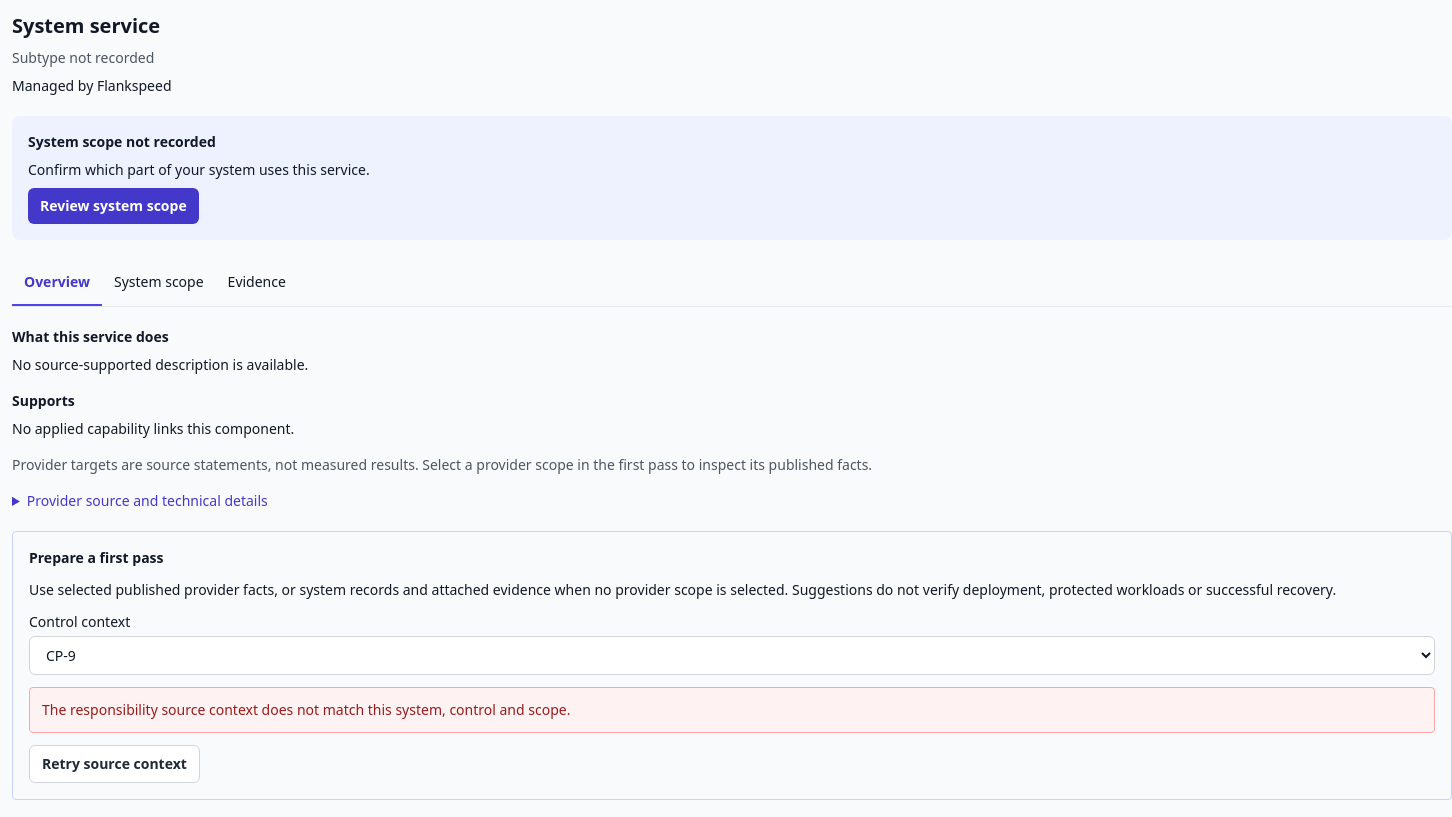
Test: task-oriented component review › handles empty, demo-only and long source descriptions without inventing facts
Check: the heading "System scope not recorded" is shown, box [28,132,216,151]
Click the heading "Provider source and technical details" at [147, 500], box [27,491,268,510]
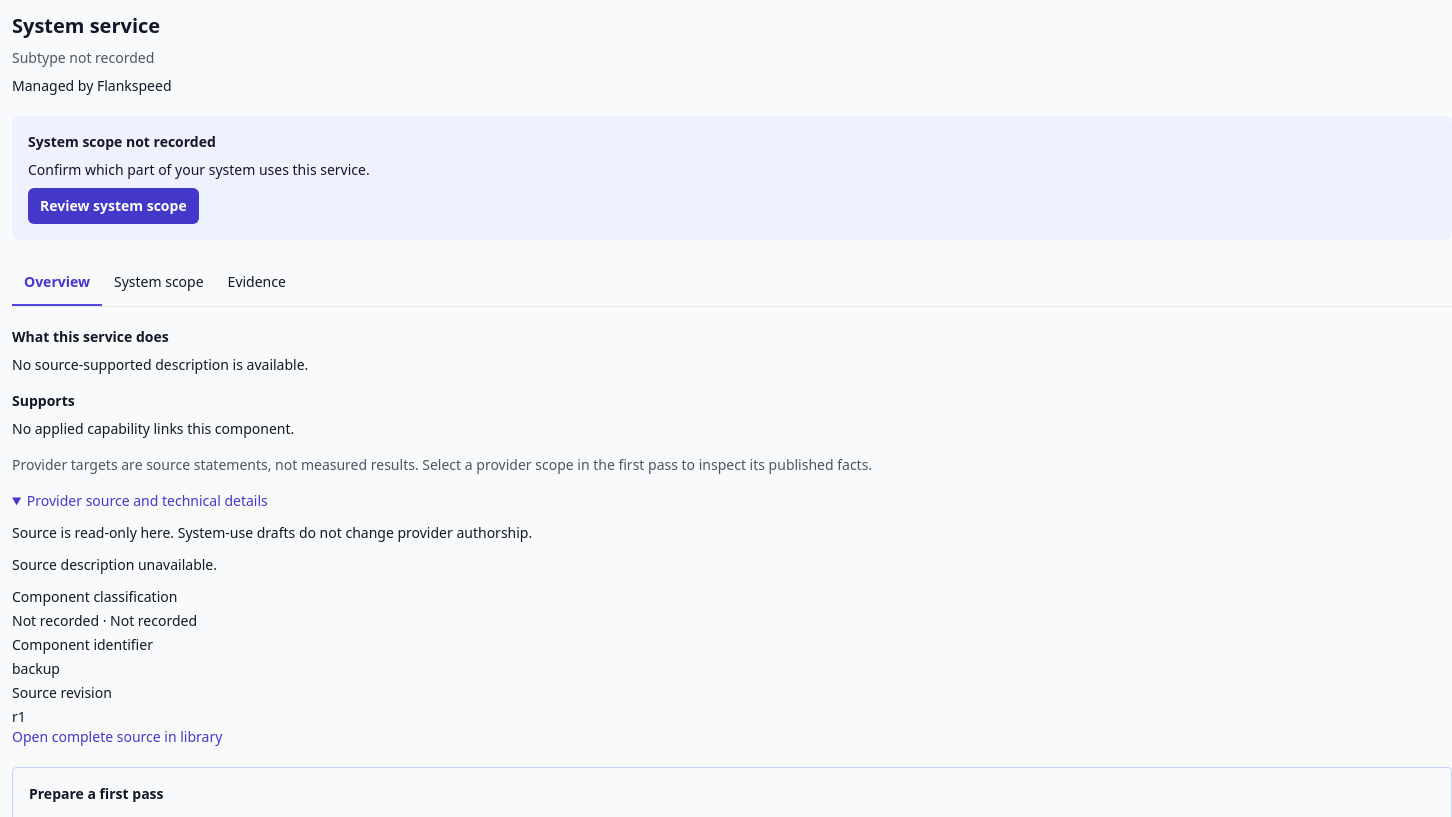
Check: the text "Subtype not recorded" is shown, box [12,48,154,67]
Check: the text "Source description unavailable." is shown, box [12,555,217,574]
Click the tab "Evidence" at [257, 283], box [216,260,298,306]
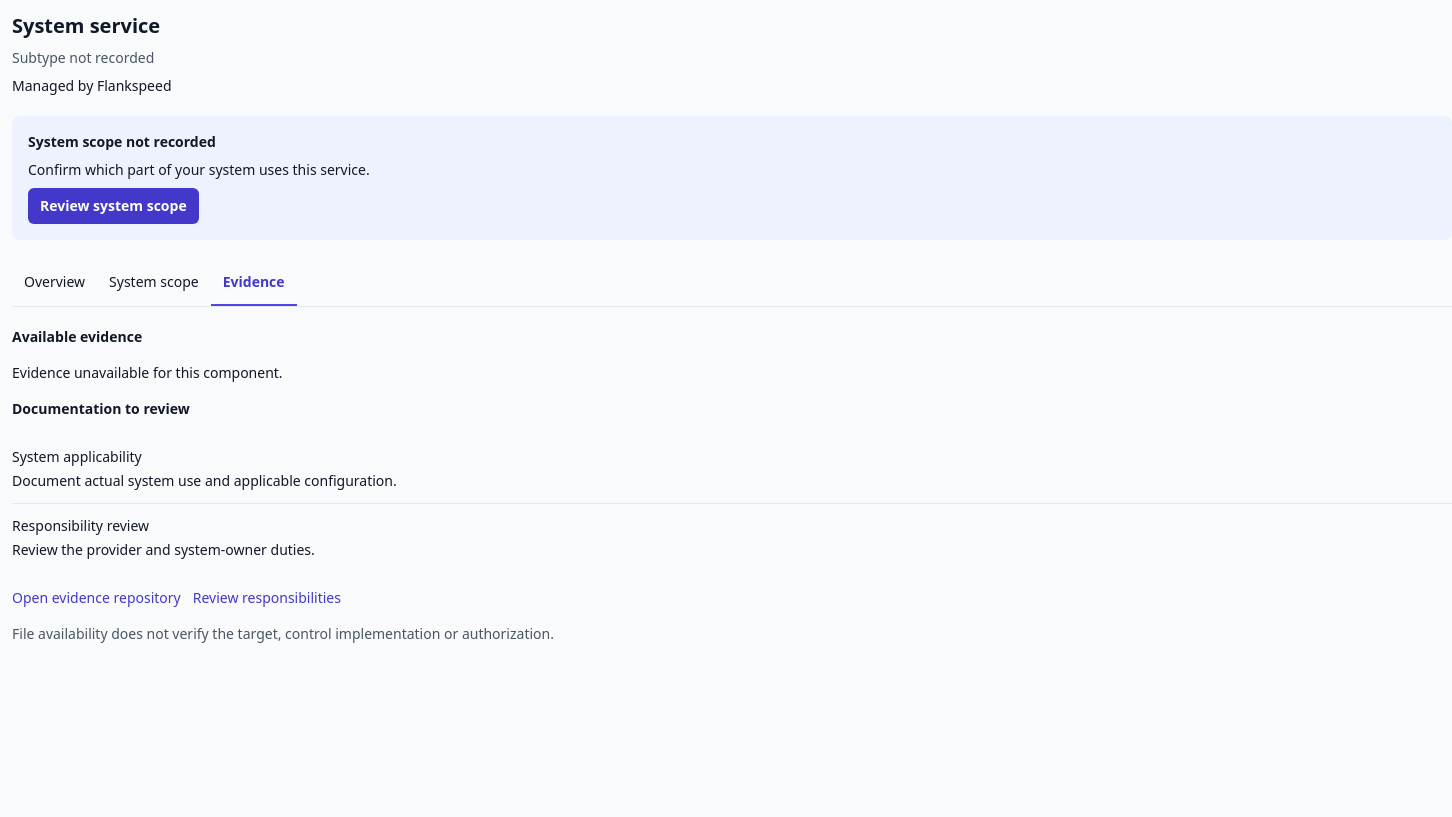
Check: the heading "System applicability" is shown, box [12,447,142,466]
